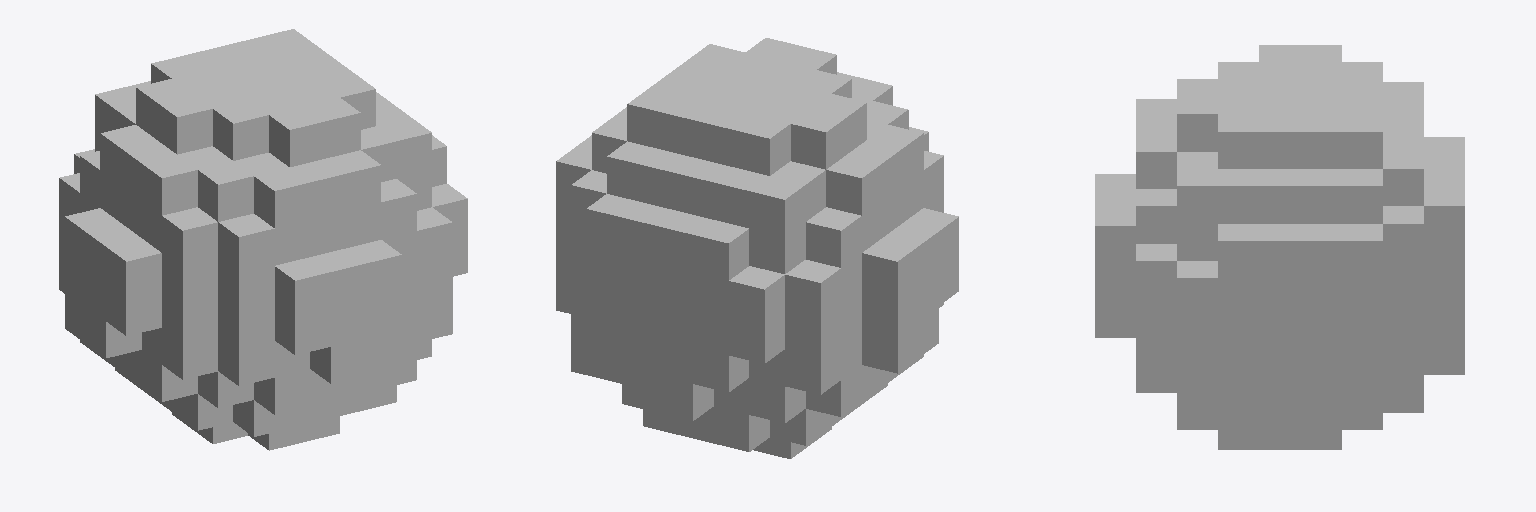
Rendered from bola_creme.obj.
3 views of the same model, side by side, from view 1: azimuth 30°, elevation 25°; view 2: azimuth 150°, elevation 25°; view 3: azimuth 270°, elevation 25° (orthographic).
Visible parts, largest first — view 1: bola_creme; view 2: bola_creme; view 3: bola_creme.
Part boxes in pixels (bbox=[...]): bola_creme: bbox=[59, 29, 467, 450]; bola_creme: bbox=[556, 38, 958, 458]; bola_creme: bbox=[1095, 45, 1464, 449].
Bounding box in the file's own units: 9 × 9 × 9.